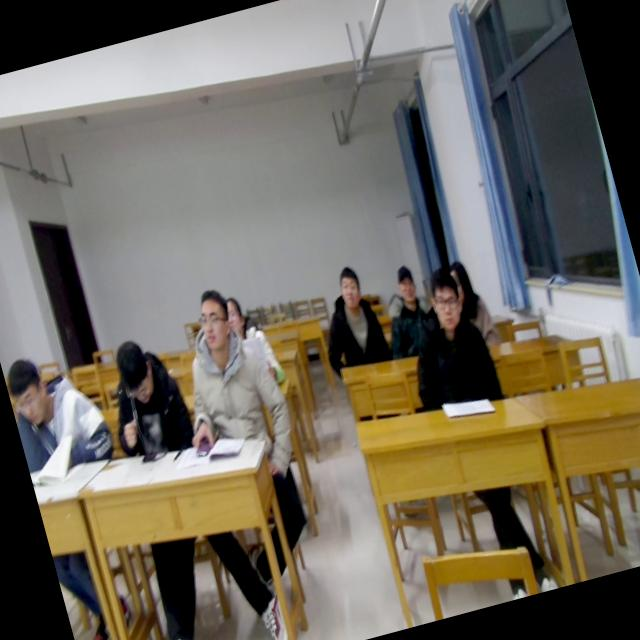bow: (3, 342, 118, 482)
down: (0, 350, 55, 432), (108, 330, 162, 411)
lookup: (420, 261, 472, 336), (187, 286, 237, 360), (388, 255, 423, 307), (329, 262, 366, 310), (221, 292, 252, 340)
sit: (153, 276, 295, 460), (387, 256, 508, 418), (94, 328, 199, 467), (304, 260, 394, 380), (222, 286, 288, 396), (371, 262, 442, 364)
